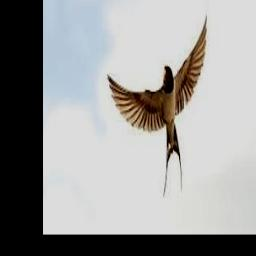Swallow: (108, 15, 208, 198)
